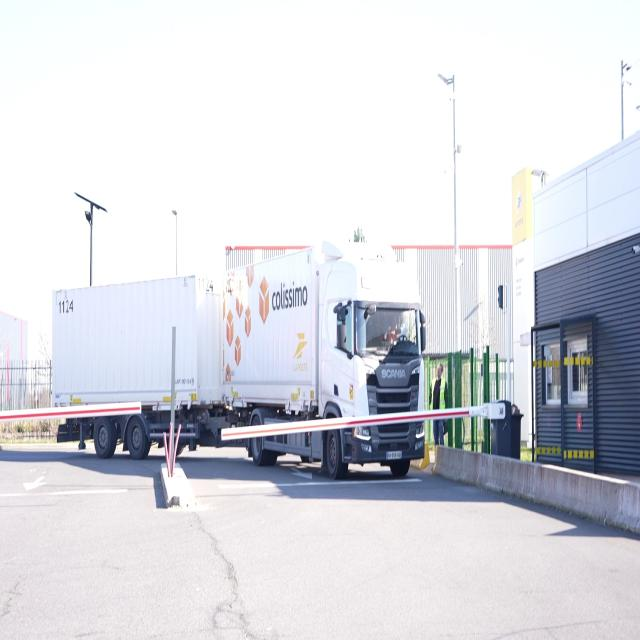Code: (56, 298, 78, 320)
